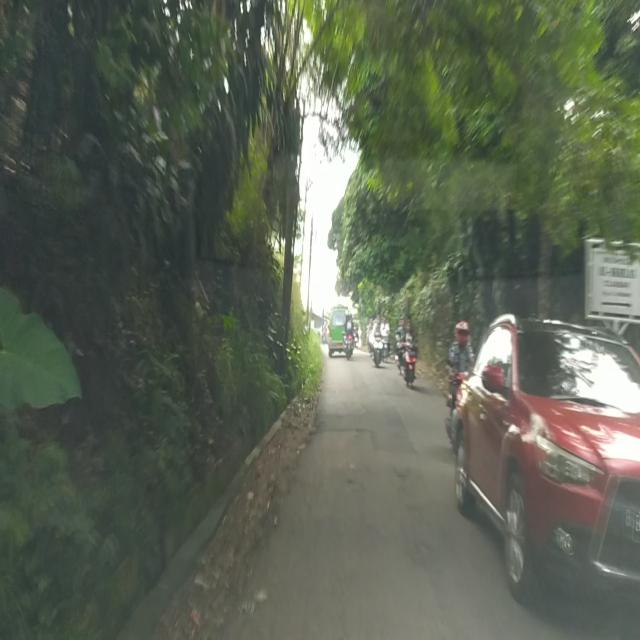Drain Hole: (293, 468, 372, 518)
